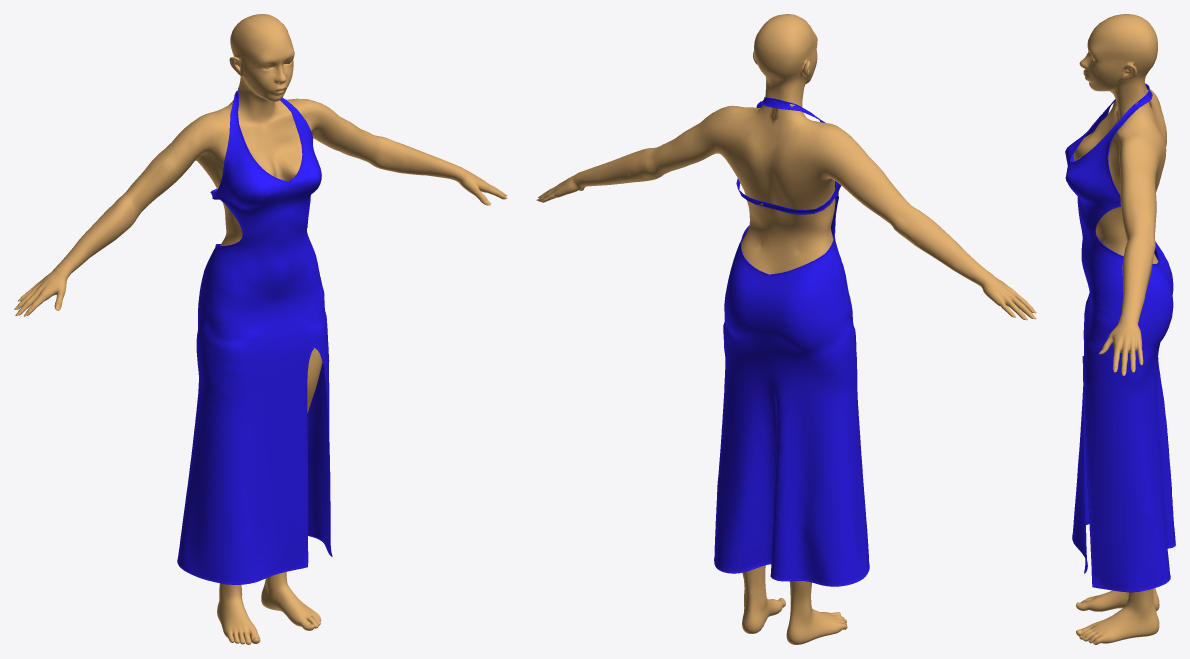
File: dress9.glb
3 views of the same model, side by side, from view 1: azimuth 30°, elevation 25°; view 2: azimuth 150°, elevation 25°; view 3: azimuth 270°, elevation 25° (orthographic).
Visible parts, largest first — view 1: EveningDress, Body; view 2: EveningDress, Body; view 3: EveningDress, Body.
Part boxes in pixels (left/top/right/bottom): EveningDress: left=177, top=87, right=332, bottom=584; Body: left=16, top=14, right=506, bottom=644; EveningDress: left=714, top=97, right=869, bottom=586; Body: left=538, top=14, right=1033, bottom=644; EveningDress: left=1065, top=83, right=1175, bottom=592; Body: left=1073, top=14, right=1166, bottom=644.
Size of the model in its own units: 1.58 by 1.85 by 0.306.
